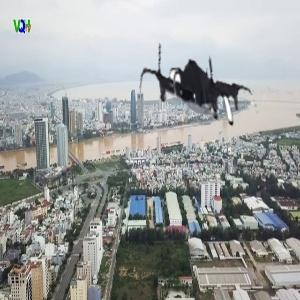drone: (137, 27, 262, 152)
